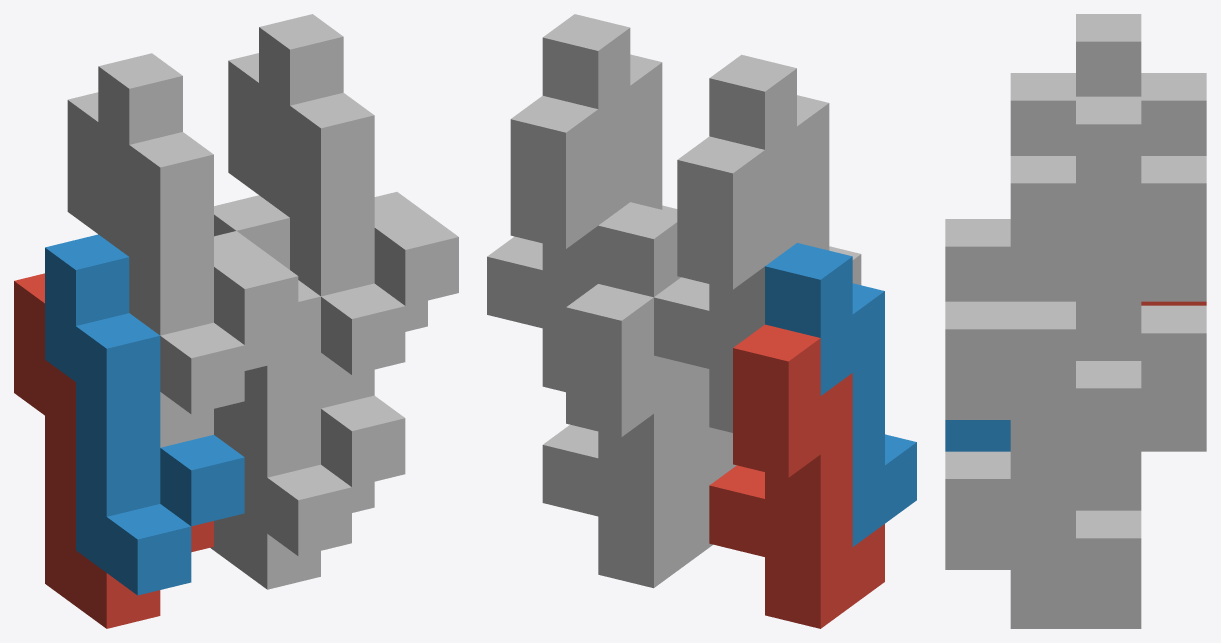
The model's file is tiling.obj.
The picture shows the model from 3 angles, left to right: view 1: azimuth 30°, elevation 25°; view 2: azimuth 150°, elevation 25°; view 3: azimuth 270°, elevation 25°; orthographic projection. The views are drawn at different scales.
Parts seen in each view (by area): view 1: copy_1_domain_2, copy_1_domain_4, copy_1_domain_8, copy_1_domain_6, copy_1_domain_1, copy_1_domain_3, copy_1_domain_7, copy_1_domain_5; view 2: copy_1_domain_1, copy_1_domain_5, copy_1_domain_7, copy_1_domain_3, copy_1_domain_2, copy_1_domain_4, copy_1_domain_8, copy_1_domain_6; view 3: copy_1_domain_8, copy_1_domain_7, copy_1_domain_5, copy_1_domain_4, copy_1_domain_6, copy_1_domain_3, copy_1_domain_2.
Boxes of the visible parts, x1,y1,x2,y2 form: copy_1_domain_2: [45, 234, 244, 595]; copy_1_domain_4: [98, 53, 298, 414]; copy_1_domain_8: [259, 14, 458, 374]; copy_1_domain_6: [214, 195, 405, 556]; copy_1_domain_1: [14, 273, 213, 628]; copy_1_domain_3: [67, 92, 267, 447]; copy_1_domain_7: [228, 53, 427, 408]; copy_1_domain_5: [210, 403, 374, 589]; copy_1_domain_1: [709, 324, 884, 628]; copy_1_domain_5: [542, 284, 712, 588]; copy_1_domain_7: [487, 95, 630, 392]; copy_1_domain_3: [654, 136, 796, 432]; copy_1_domain_2: [765, 243, 916, 546]; copy_1_domain_4: [709, 54, 861, 284]; copy_1_domain_8: [542, 14, 677, 213]; copy_1_domain_6: [598, 202, 736, 506]; copy_1_domain_8: [945, 96, 1141, 419]; copy_1_domain_7: [1010, 156, 1206, 478]; copy_1_domain_5: [1010, 305, 1206, 628]; copy_1_domain_4: [945, 14, 1141, 301]; copy_1_domain_6: [945, 451, 1075, 569]; copy_1_domain_3: [1141, 73, 1206, 155]; copy_1_domain_2: [945, 420, 1010, 451].
Bounding box in the file's own units: 6 × 9 × 4.
